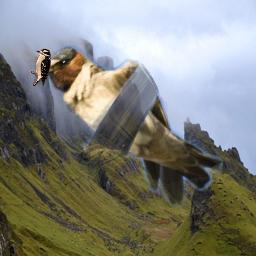Swallow: (40, 45, 223, 207)
Woodpecker: (29, 48, 51, 86)
